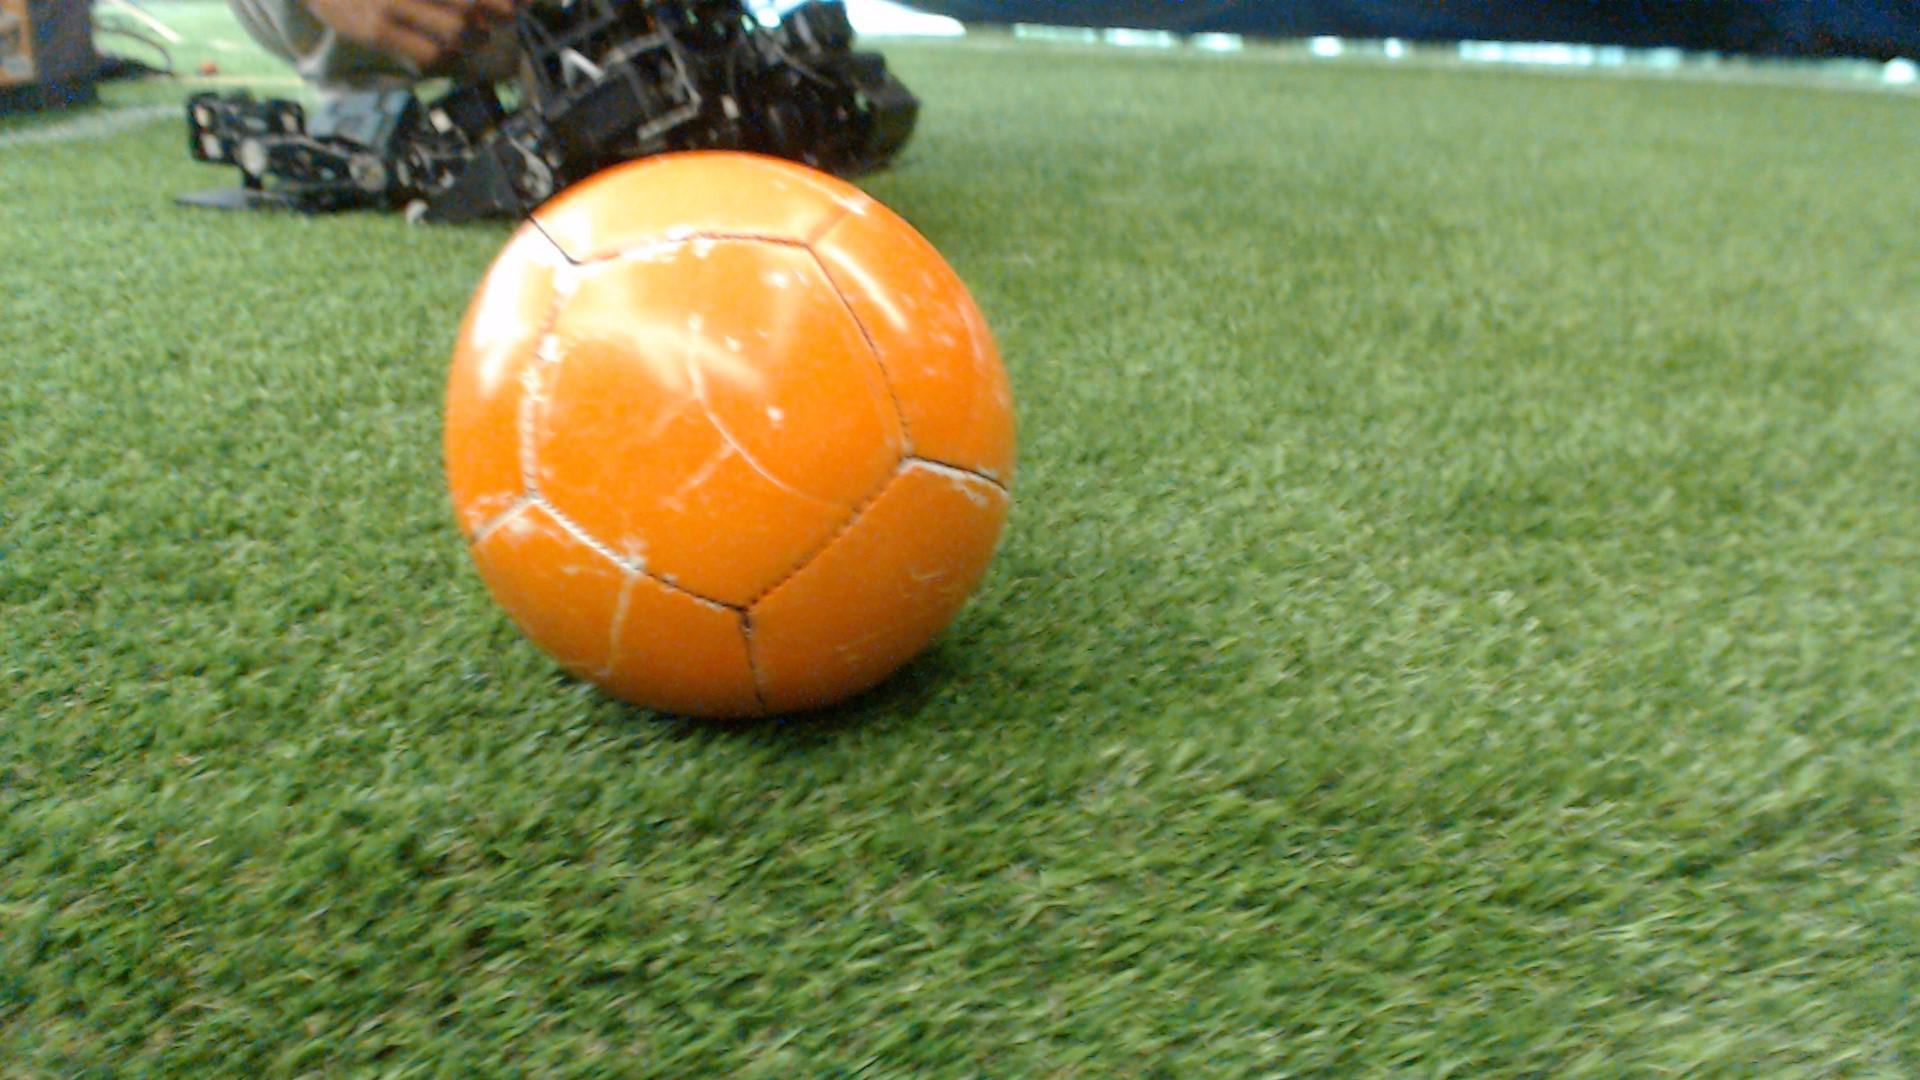bola: (428, 148, 1043, 741)
